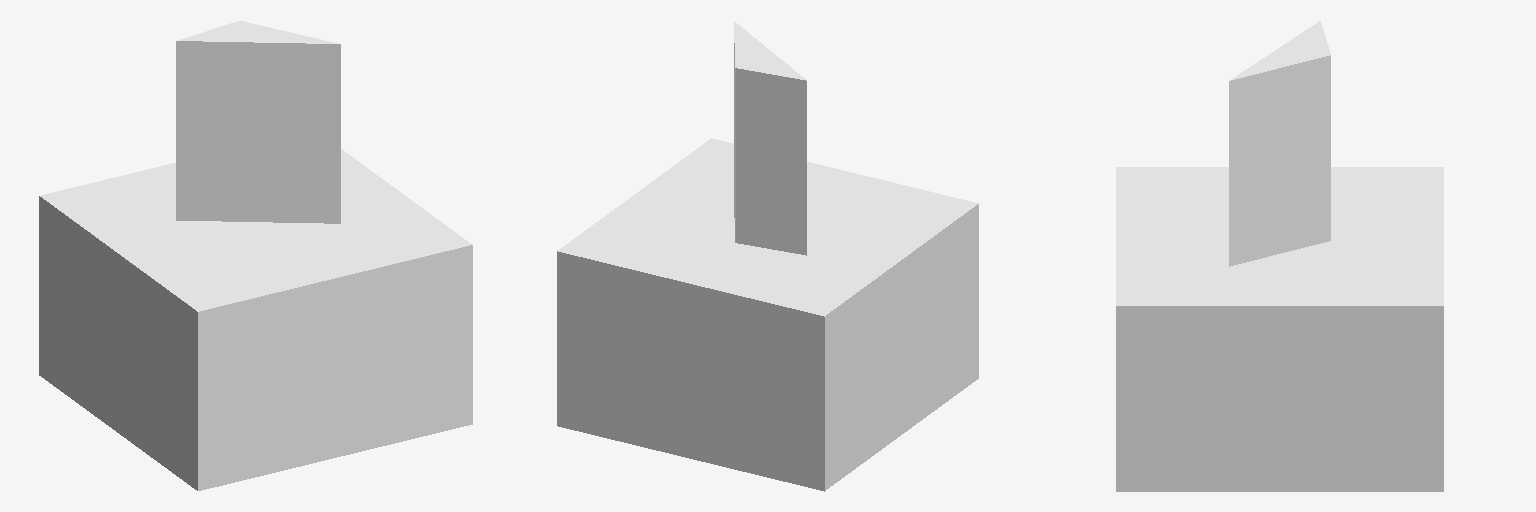
The robot description file, URDF, robot "triangle":
<robot name="triangle">
	<link name="_name">
		<visual>
			<origin rpy="0 0 0" xyz="-9.615176613367952e-06 -3.8136830959764256e-05 -0.006005232842401958" />
			<geometry>
				<mesh filename="triangle.obj" scale=".001 .001 .001" />
			</geometry>
			<material name="texture">
				<color rgba="1.0 1.0 1.0 1.0" />
			</material>
		</visual>
		<collision>
			<geometry>
				<mesh filename="triangle_vhacd.obj" scale=".001 .001 .001" />
			</geometry>
		<origin rpy="0 0 0" xyz="-9.615176613367952e-06 -3.8136830959764256e-05 -0.006005232842401958" /></collision>
		<inertial>
			<mass value="1.0" />
			<inertia ixx="1.0" ixy="0.0" ixz="0.0" iyy="1.0" iyz="0.0" izz="1.0" />
		</inertial>
	</link>
</robot>

--- What the picture shows (computed from the rendered views, not written in the file) ---
Views: 3 orthographic renders of the robot side by side, from view 1: azimuth 30°, elevation 25°; view 2: azimuth 150°, elevation 25°; view 3: azimuth 270°, elevation 25°.
Robot: triangle — 1 links, 0 joints (none); root link _name; default pose: all joints at 0.
Links seen in each view (by area): view 1: _name; view 2: _name; view 3: _name.
Boxes of the visible links, x1,y1,x2,y2 form: _name: (39,21,472,490); _name: (557,21,978,491); _name: (1116,21,1443,491).
Bounding box of the posed robot: 0.016 × 0.016 × 0.02 m (x, y, z).
1 mesh visuals loaded from 1 distinct referenced files (1 OBJ).